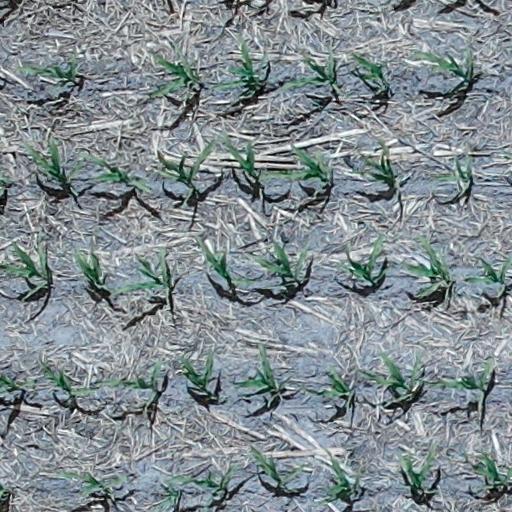planta: (424, 354, 494, 416), (230, 341, 292, 408), (356, 351, 422, 408), (279, 46, 346, 97), (1, 231, 50, 299), (196, 237, 261, 288), (23, 137, 92, 185), (401, 234, 453, 297), (209, 36, 267, 91), (98, 359, 162, 408), (148, 42, 201, 100), (148, 139, 216, 183), (337, 234, 397, 283), (110, 249, 171, 297), (259, 145, 332, 185), (168, 463, 237, 505), (16, 48, 79, 93), (249, 444, 305, 493), (246, 238, 309, 279), (87, 156, 151, 194), (413, 40, 474, 79), (347, 136, 396, 184), (395, 444, 441, 494), (38, 358, 98, 396), (428, 152, 473, 201), (317, 459, 359, 505), (56, 470, 132, 495), (347, 50, 389, 93), (219, 131, 255, 174), (305, 366, 350, 398), (176, 351, 213, 389), (73, 250, 104, 287)
